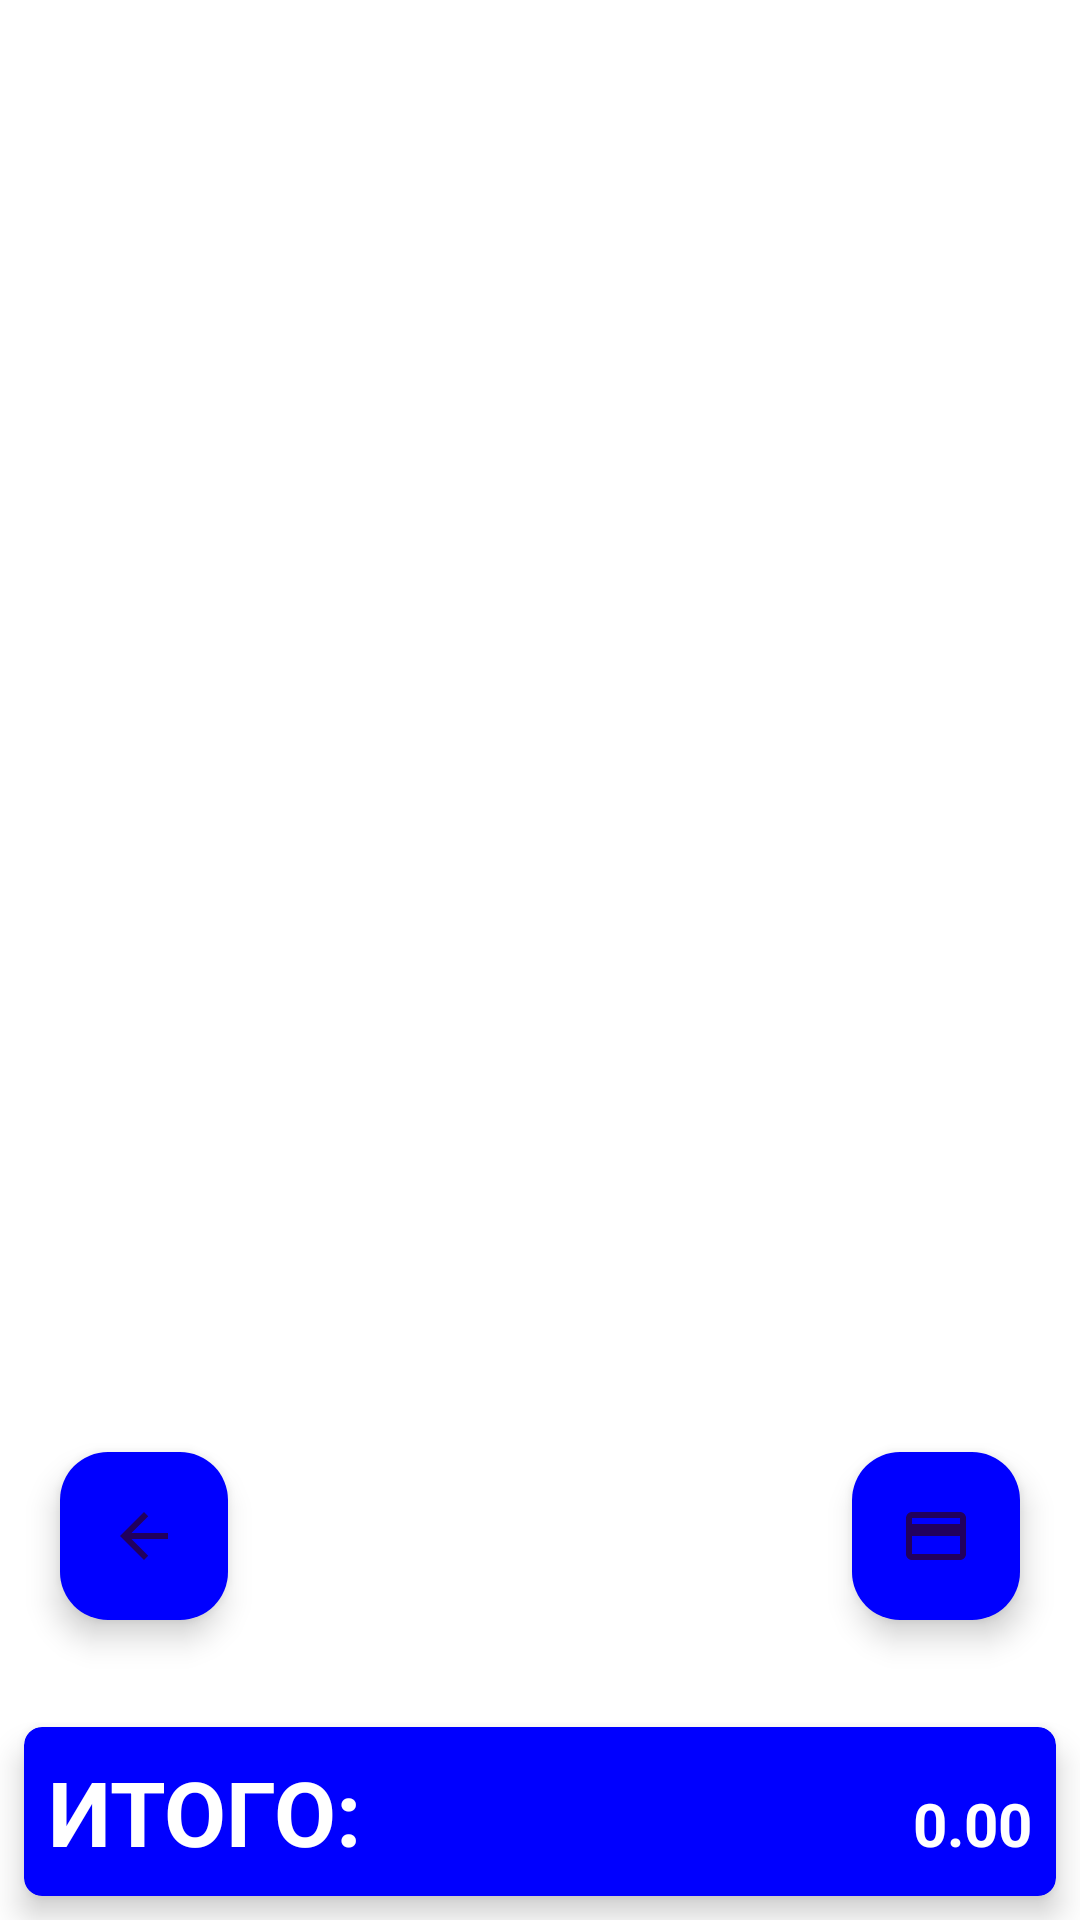

Icons on this 1080px x 1920px Android screen, each with the point to tap as point (x, y):
back: point (144, 1536)
payment: point (936, 1536)
